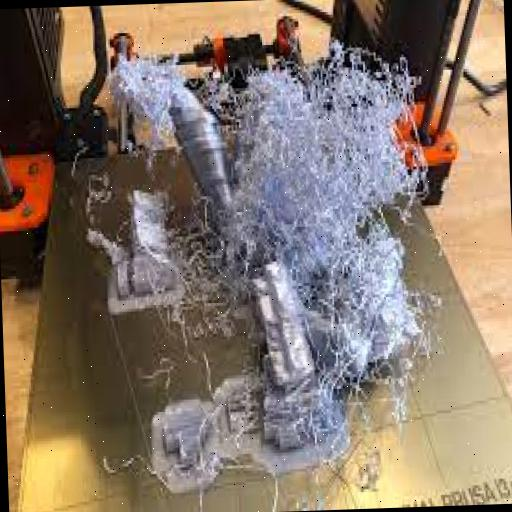spaghetti: (70, 5, 486, 512)
